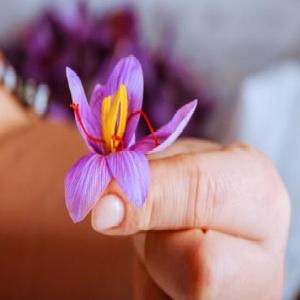Saffron: (69, 58, 196, 220)
